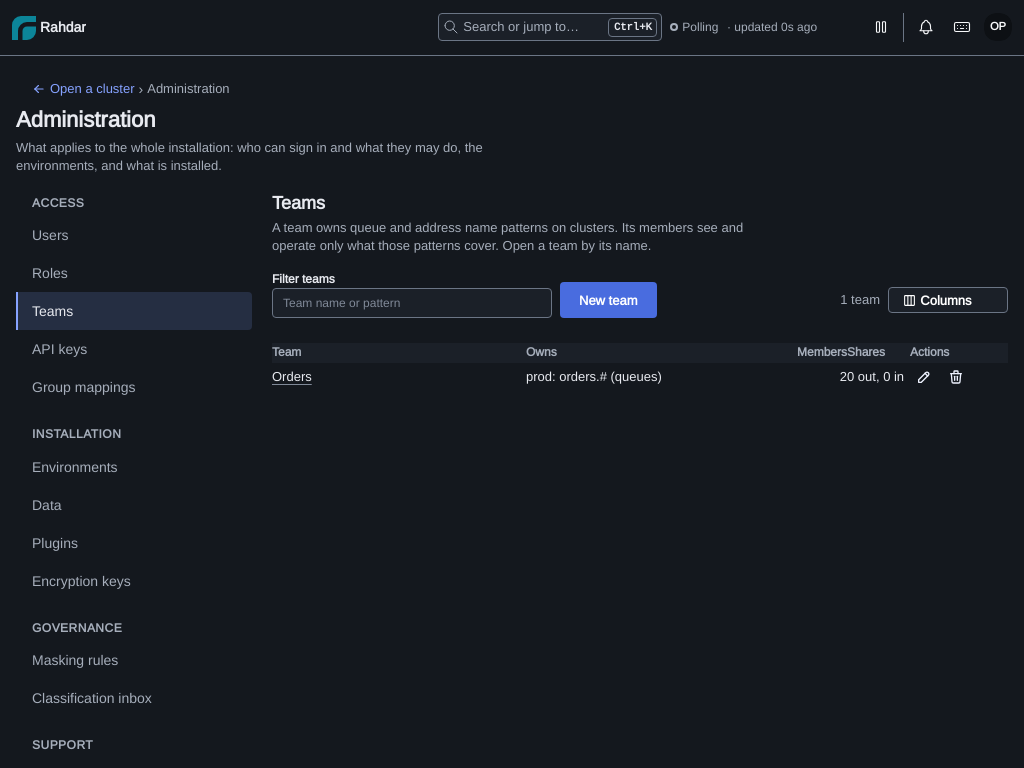
Test: the Teams tab › lists each team with what it owns per cluster, and opens one from its name, a real link
Expected: the row "Orders prod: orders.# (queues) 2 0 out, 0 in" is shown, [272,363,1008,391]
Expected: the text "1 team" is shown, [840,291,880,310]
Click the link "Orders" at (292, 376), box [272,368,312,384]
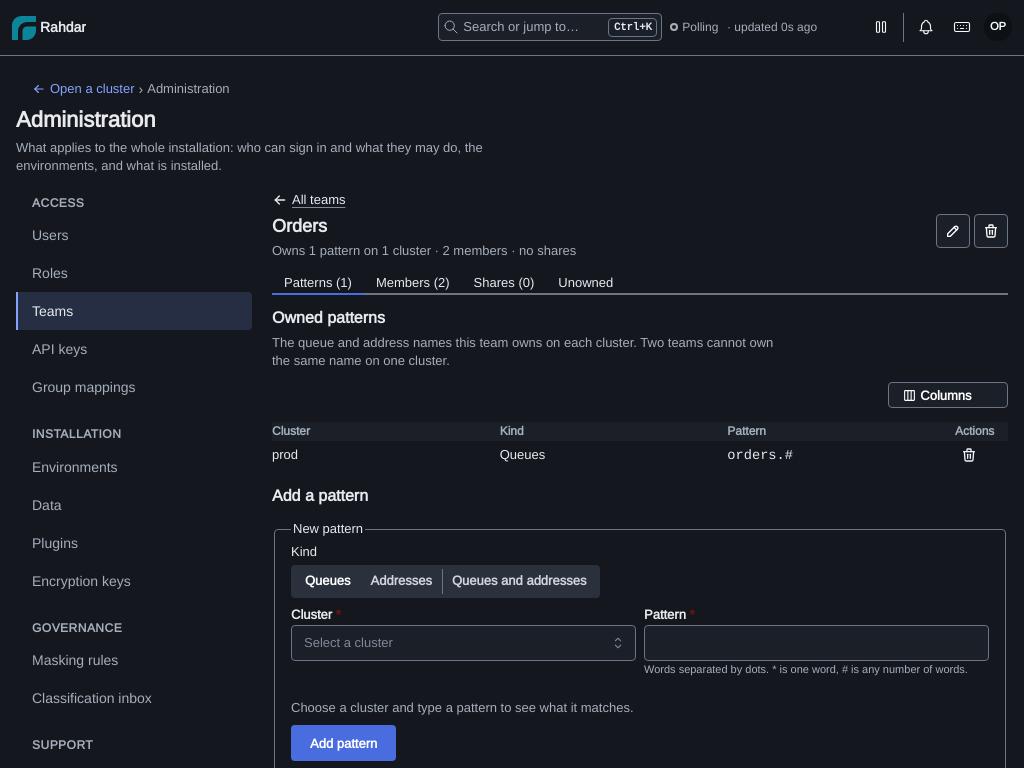
Expected: the heading "Orders" is shown, [272,214,327,238]
Expected: the tab "Members (2)" is shown, [364,272,462,295]
Expected: the text "Owns 1 pattern on 1 cluster · 2 members · no shares" is shown, [272,242,576,259]
